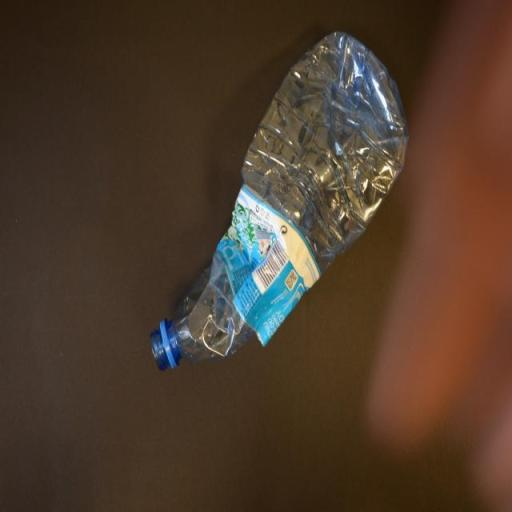plastic: (153, 28, 412, 374)
